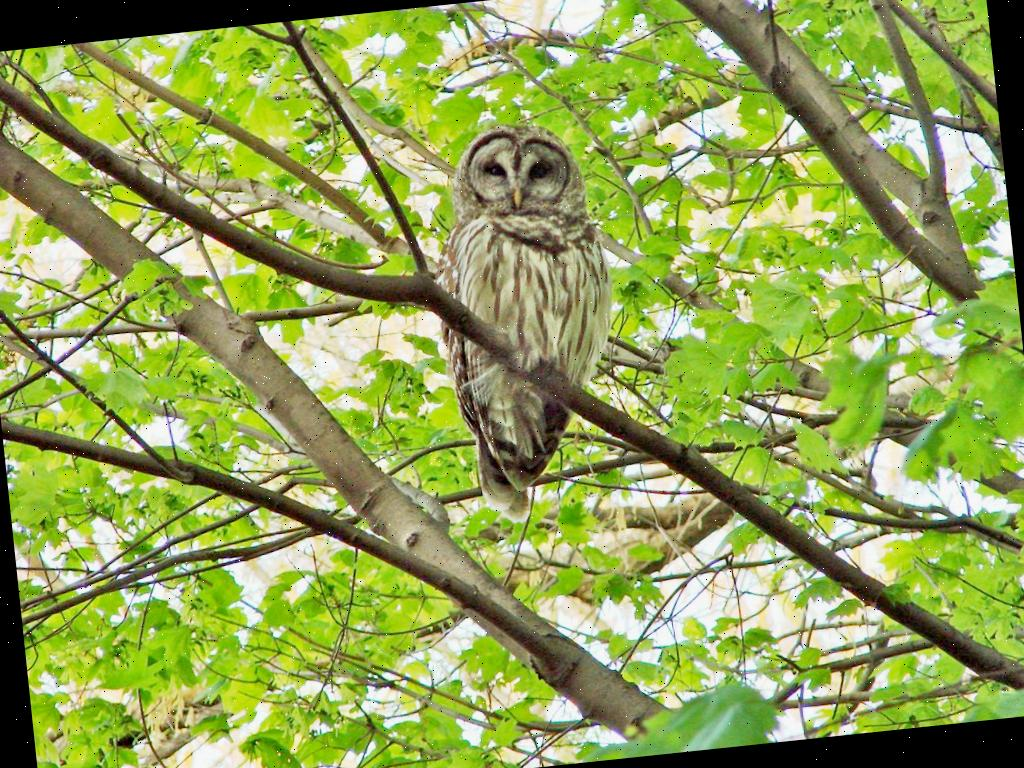Owl: (419, 114, 633, 526)
